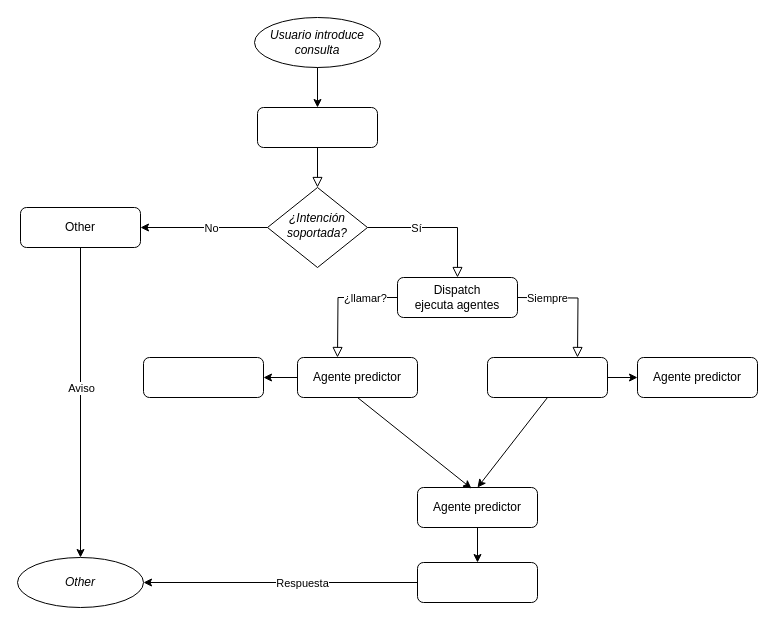
This 775x625 diagram has some shape labels left out. Here are the shapes that lost their labels. From the top down, the centre of each, then its label:
point 317,127: Backend Supervisor clasifica intención
point 203,377: MCP Predictor
point 547,377: Agente RAG
point 477,582: Agente reportes
